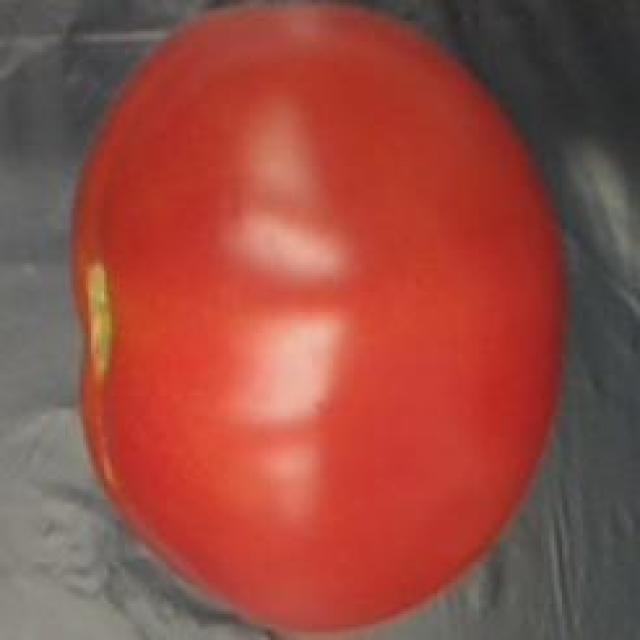ripe tomato: (59, 0, 585, 637)
